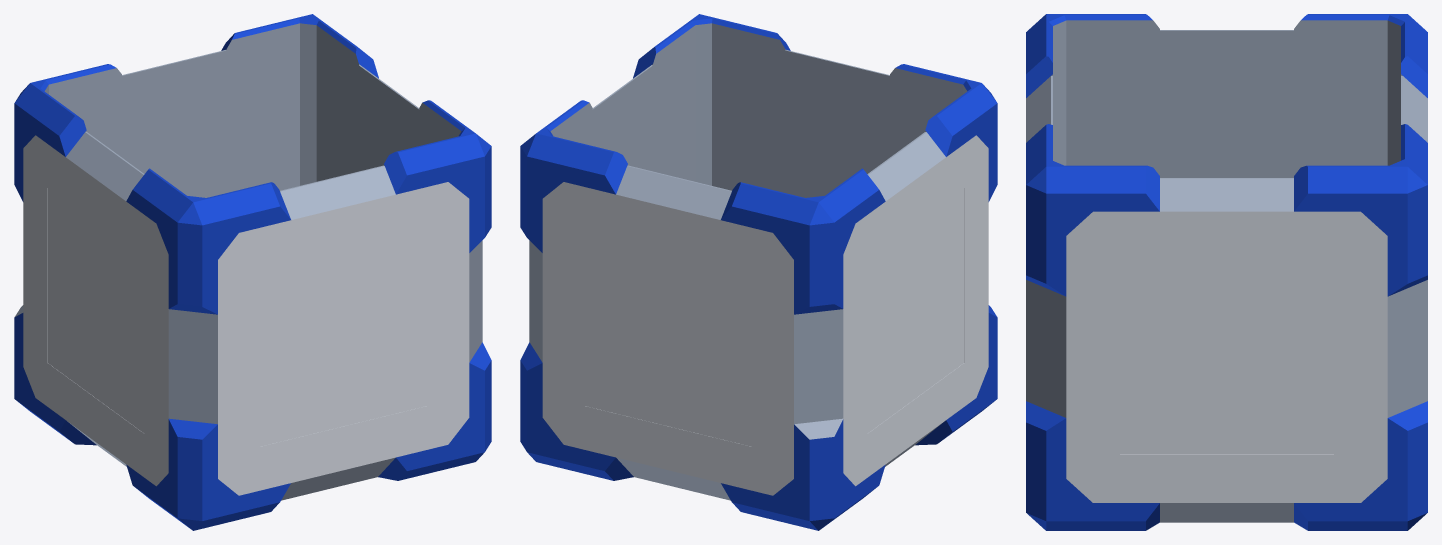
The model's file is container-blue.obj.
The picture shows the model from 3 angles, left to right: view 1: azimuth 30°, elevation 25°; view 2: azimuth 150°, elevation 25°; view 3: azimuth 270°, elevation 25°; orthographic projection. The views are drawn at different scales.
Visible parts, largest first — view 1: seal_985, body_485, acc_1; view 2: seal_985, body_485, acc_1; view 3: seal_985, body_485, acc_1.
Part boxes in pixels (left/top/right/bottom): seal_985: left=23, top=135, right=469, bottom=495; body_485: left=15, top=23, right=482, bottom=500; acc_1: left=14, top=14, right=491, bottom=530; seal_985: left=542, top=135, right=988, bottom=495; body_485: left=529, top=23, right=967, bottom=500; acc_1: left=520, top=14, right=997, bottom=530; seal_985: left=1066, top=211, right=1387, bottom=502; body_485: left=1026, top=20, right=1427, bottom=522; acc_1: left=1026, top=14, right=1427, bottom=530.
Size of the model in its own units: 0.12 by 0.12 by 0.12.
